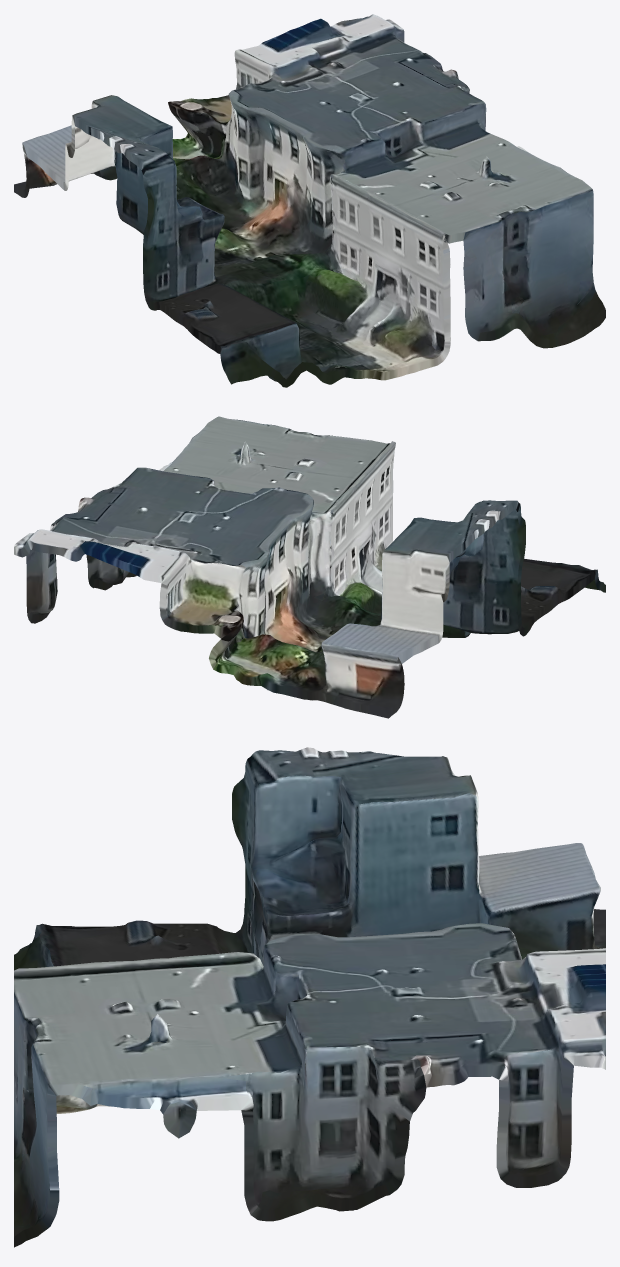
The model's file is z20-167727-405193-h0-yup-uvflip-v3-world.glb.
The picture shows the model from 3 angles, top to bottom: view 1: azimuth 30°, elevation 25°; view 2: azimuth 150°, elevation 25°; view 3: azimuth 270°, elevation 25°; orthographic projection. The views are drawn at different scales.
Size of the model in its own units: 30.16 by 15.52 by 30.32.
Materials: 1 (1 with a texture image).
